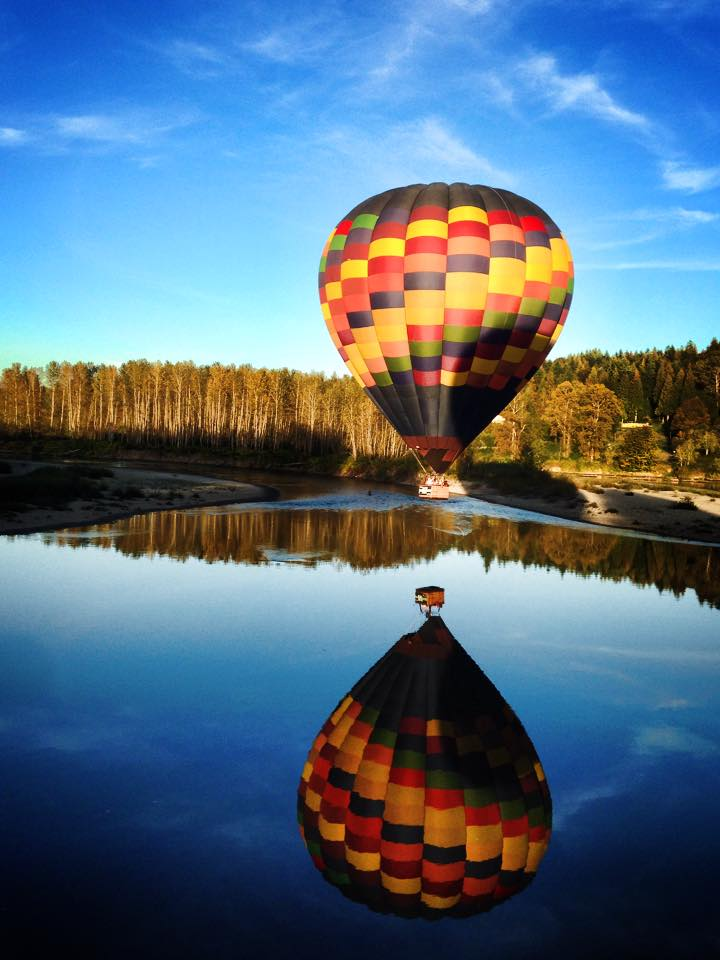balloon: (317, 182, 574, 499)
